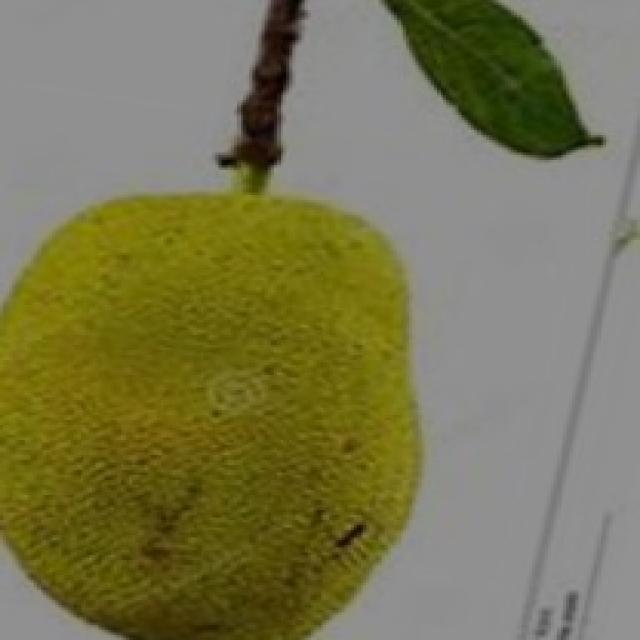Fruit: (0, 257, 409, 640)
